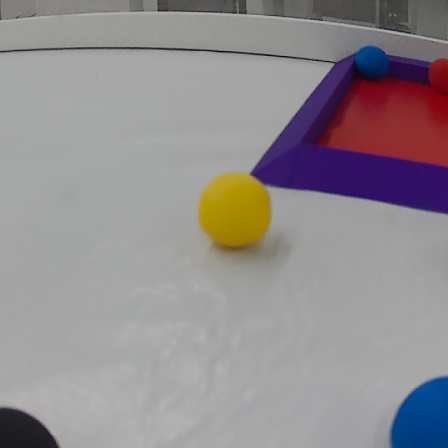blue: (383, 364, 448, 448), (351, 43, 391, 84)
red: (423, 56, 448, 96)
red_aim: (254, 42, 448, 223)
yellow: (191, 169, 276, 256)
